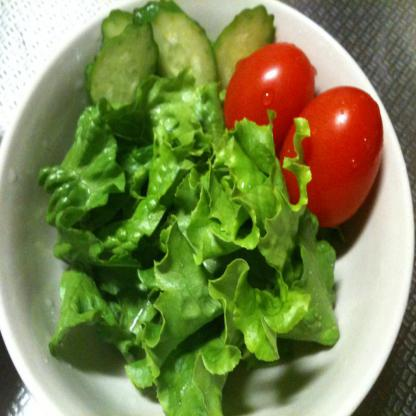Tomato: (281, 86, 384, 232), (222, 41, 317, 154)
